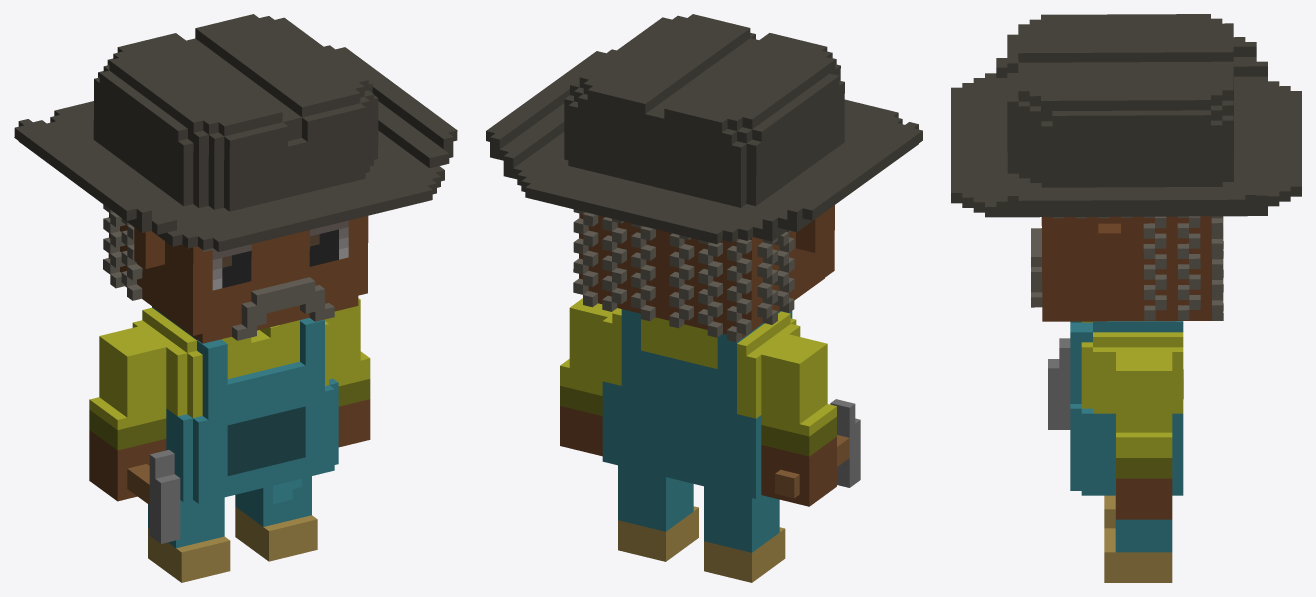
3 views of the same model, side by side, from view 1: azimuth 30°, elevation 25°; view 2: azimuth 150°, elevation 25°; view 3: azimuth 270°, elevation 25° (orthographic). The views are drawn at different scales.
Visible parts, largest first — view 1: vox-1, vox-9, vox-8, vox-7, vox-4, vox-5, vox-6, vox-3, vox-2, vox-0; view 2: vox-1, vox-9, vox-0, vox-7, vox-8, vox-5, vox-4, vox-6, vox-3; view 3: vox-1, vox-8, vox-9, vox-6, vox-0, vox-4, vox-3, vox-2.
Part boxes in pixels (<box>): vox-1: <box>14,14,457,251</box>; vox-9: <box>132,306,338,503</box>; vox-8: <box>108,212,368,343</box>; vox-7: <box>89,326,166,501</box>; vox-4: <box>235,476,317,561</box>; vox-5: <box>148,497,230,582</box>; vox-6: <box>333,298,370,447</box>; vox-3: <box>127,450,180,543</box>; vox-2: <box>231,277,334,340</box>; vox-0: <box>103,204,142,300</box>; vox-1: <box>486,14,922,244</box>; vox-9: <box>602,308,800,498</box>; vox-0: <box>573,209,794,342</box>; vox-7: <box>761,334,836,506</box>; vox-8: <box>579,205,834,337</box>; vox-5: <box>704,486,785,582</box>; vox-4: <box>618,465,698,561</box>; vox-6: <box>560,298,618,456</box>; vox-3: <box>775,399,860,498</box>; vox-1: <box>951,14,1301,217</box>; vox-8: <box>1041,216,1212,321</box>; vox-9: <box>1070,321,1183,495</box>; vox-6: <box>1116,352,1172,519</box>; vox-0: <box>1053,216,1223,320</box>; vox-4: <box>1104,496,1172,582</box>; vox-3: <box>1048,338,1183,429</box>; vox-2: <box>1031,228,1042,307</box>.
Size of the model in its own units: 3.4 by 4.8 by 3.1.
Materials: 10 (10 with a texture image).
